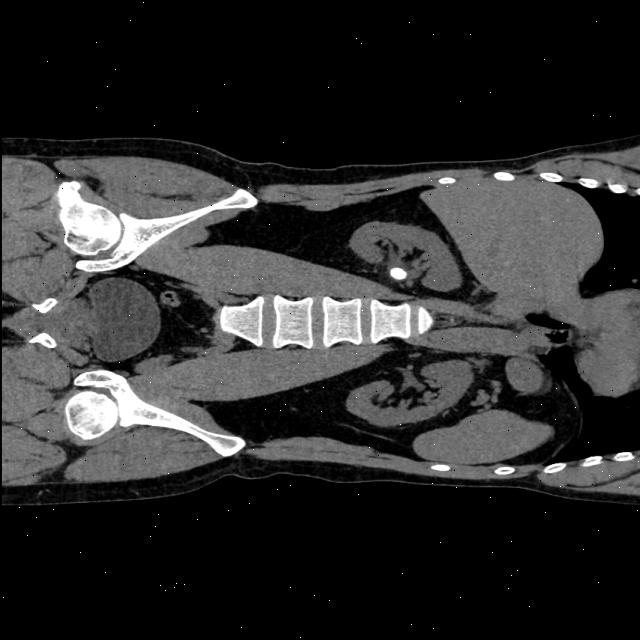kidneystone: (389, 268, 406, 280)
